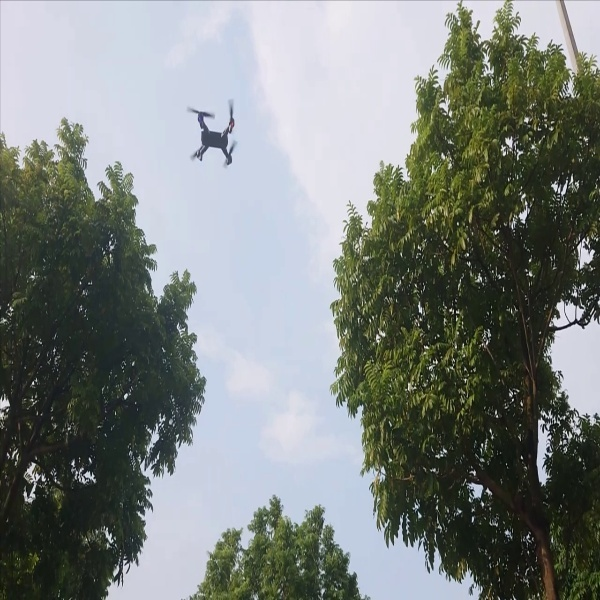drone: (181, 90, 242, 174)
